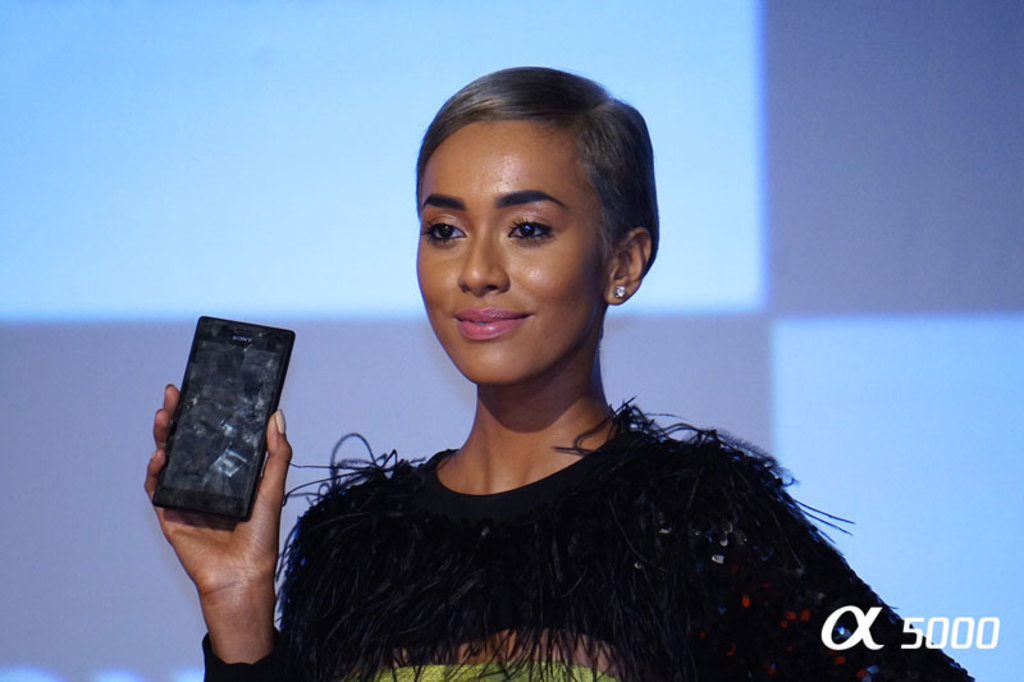Mobile-phone: (151, 315, 294, 518)
